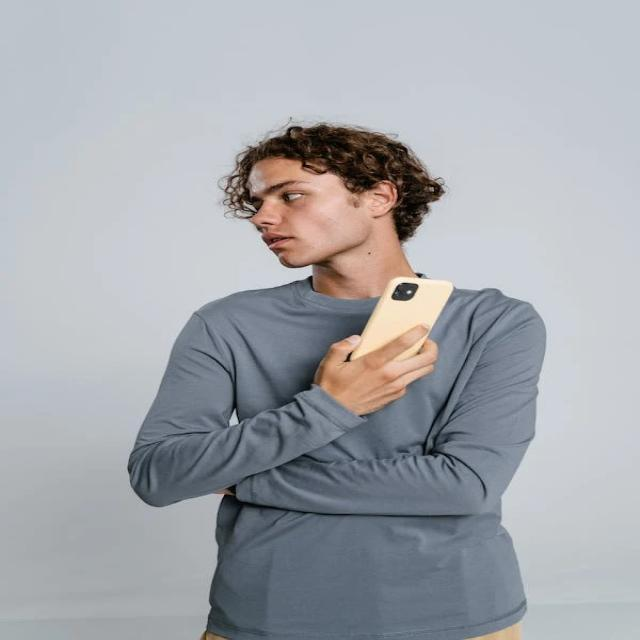phone: (349, 277, 456, 361)
